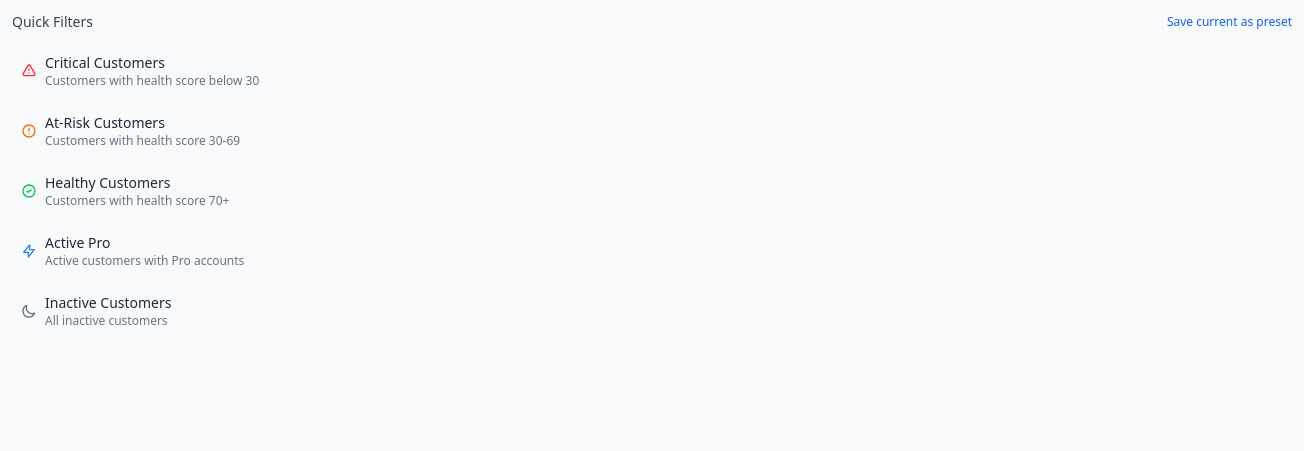
Scenario: FilterPresets › save preset › opens save dialog when save button is clicked
Click the button with test id "save-preset-button" at (1229, 22), box [1167,14,1292,30]
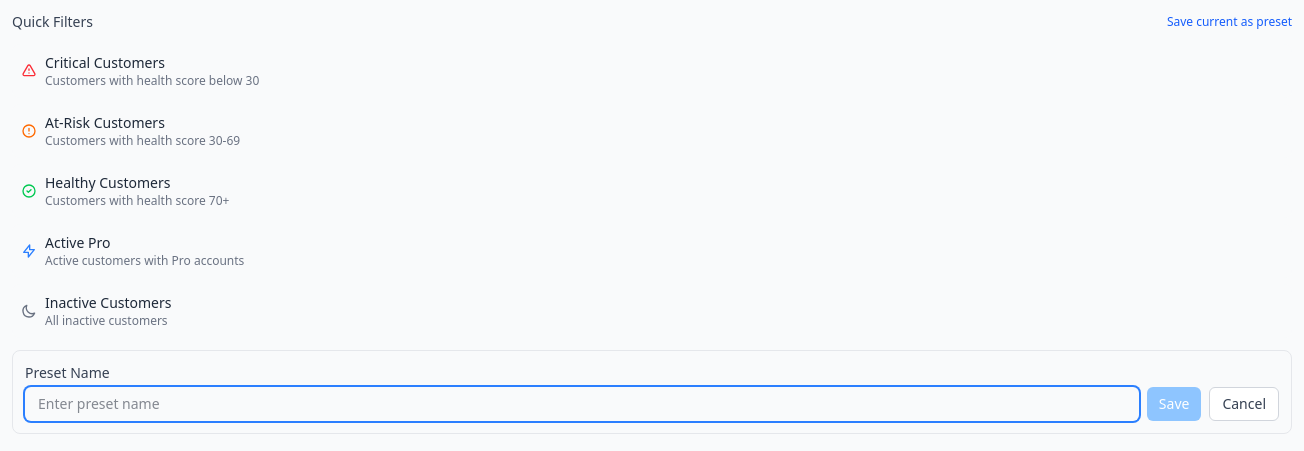
Check: the element with test id "save-preset-dialog" is shown, box [12,350,1292,434]
